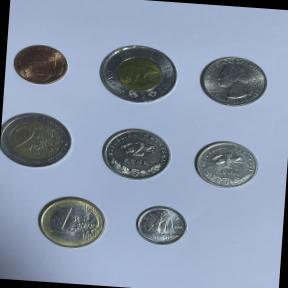coin: (92, 40, 184, 110), (96, 122, 178, 186), (0, 106, 76, 175), (31, 190, 110, 254), (194, 50, 272, 112), (7, 40, 73, 90), (130, 201, 190, 250)
